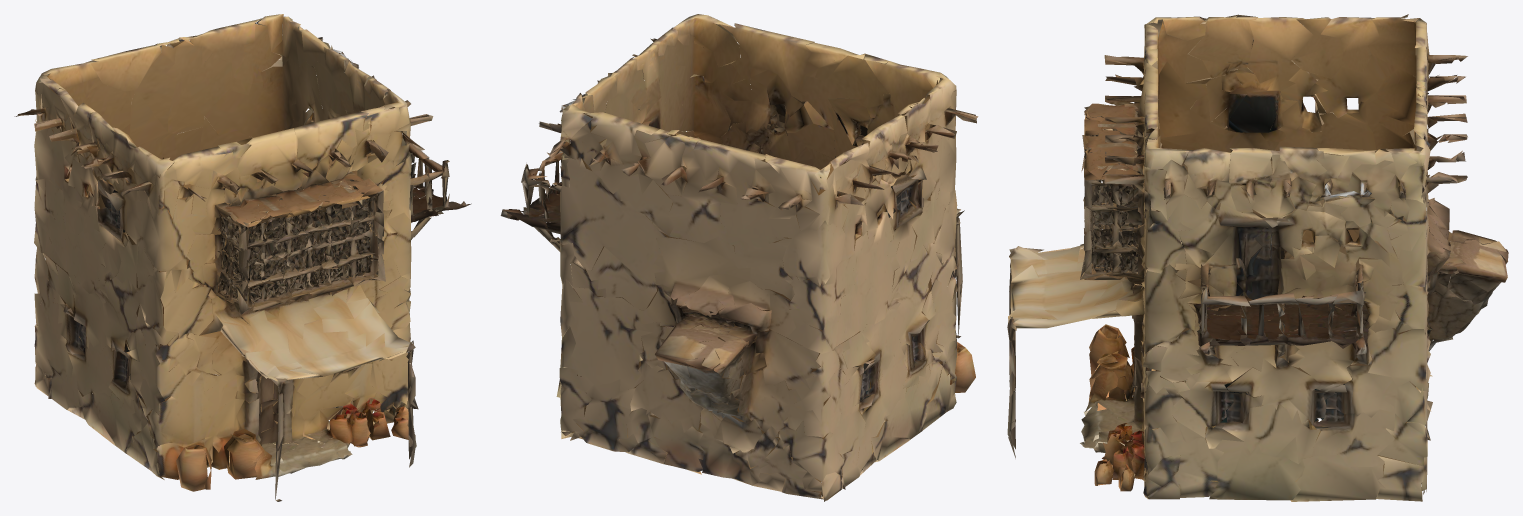
Rendered from Desert_Dwelling_town.glb.
3 renders of one model, left to right at view 1: azimuth 30°, elevation 25°; view 2: azimuth 150°, elevation 25°; view 3: azimuth 270°, elevation 25°, orthographic. The views are drawn at different scales.
Parts seen in each view (by area): view 1: Desert_Dwelling; view 2: Desert_Dwelling; view 3: Desert_Dwelling.
Part boxes in pixels (box(x1,y1,x2,y2)): Desert_Dwelling: box(14, 14, 471, 501); Desert_Dwelling: box(500, 14, 978, 501); Desert_Dwelling: box(1007, 14, 1508, 501).
Size of the model in its own units: 1.7 by 1.42 by 1.81.
Materials: 1 (1 with a texture image).
